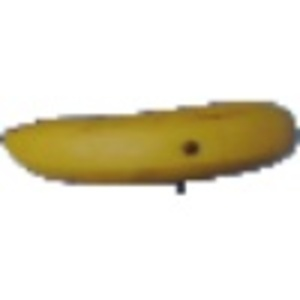banana: (5, 103, 298, 184)
